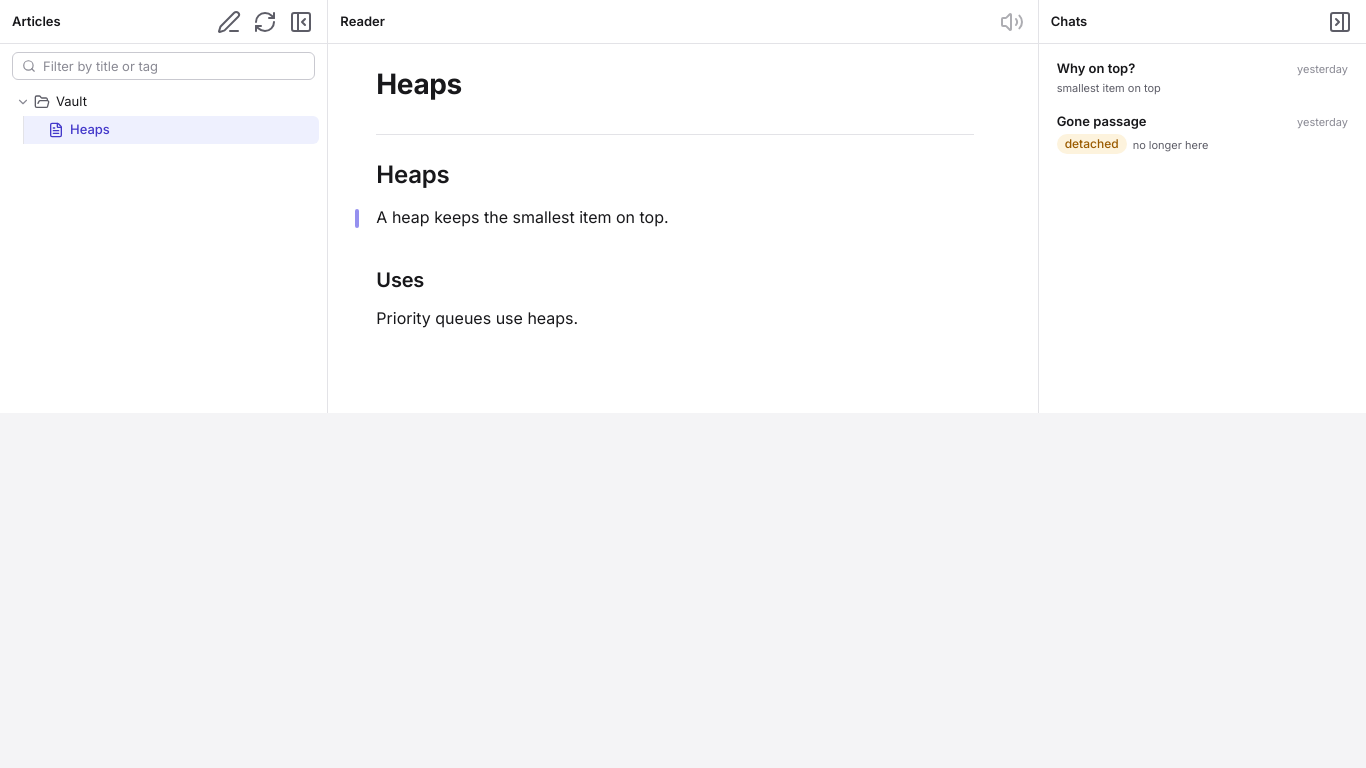
Test: chats on passages › lists threads with title and snippet, renames, resets, and shows detached ones
Expected: the element "Heaps" is shown, [328,44,1038,412]
Expected: the text "detached" is shown, [1057,134,1127,154]
Click the text "Gone passage" at coordinates (1102, 121), box [1057,113,1146,129]
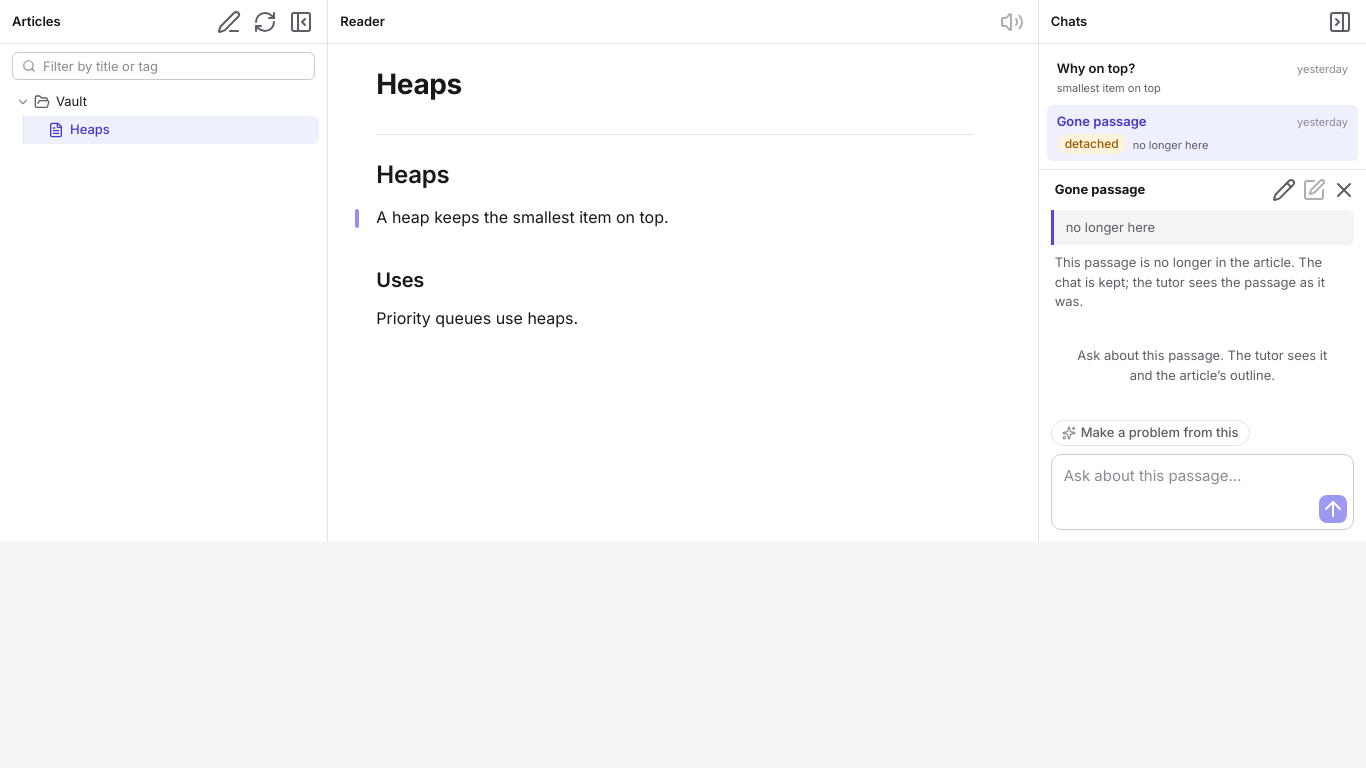
Expected: the text with test id "thread-detached" is shown, [1055,253,1350,312]
Click the button with test id "passage-marker" at coordinates (357, 218), box [350,207,364,230]
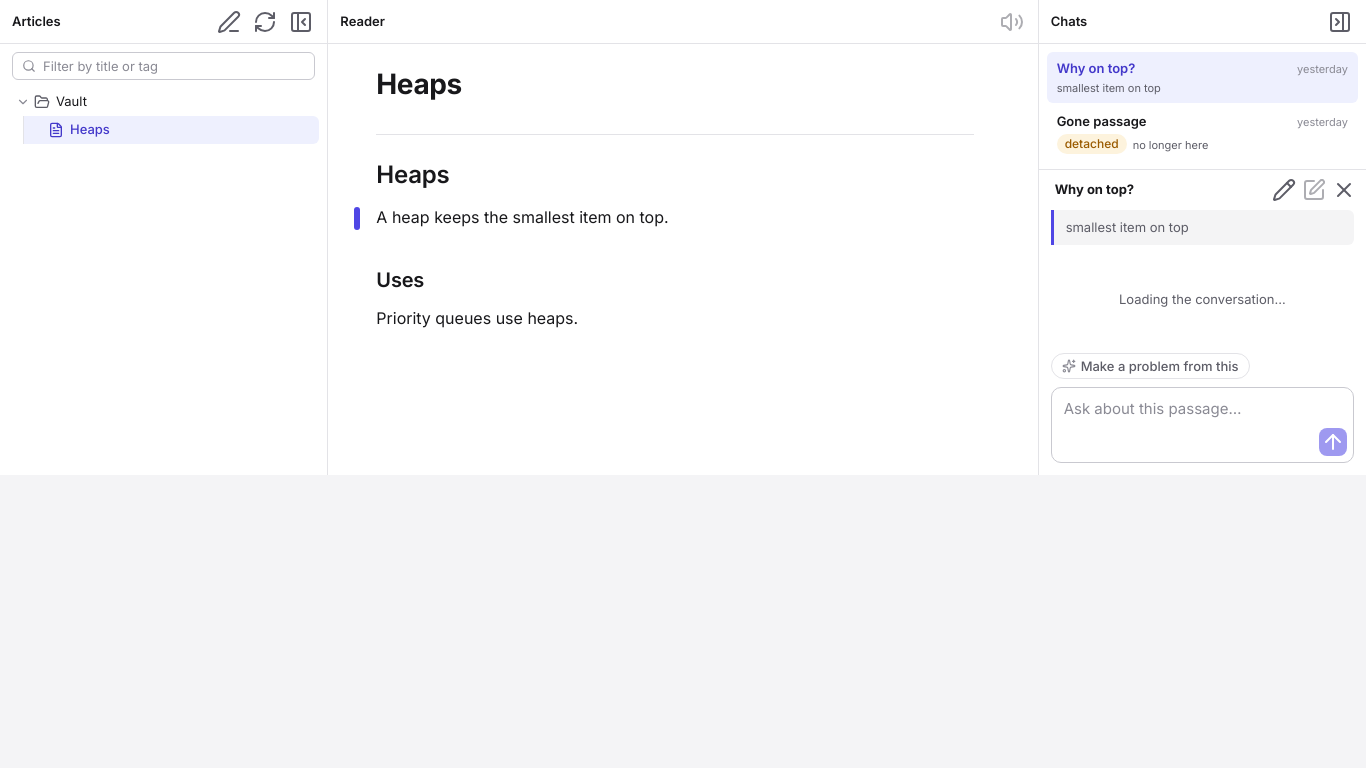
Expected: the text with test id "thread-detached" is gone
Click the button named "Rename" at coordinates (1284, 190), box [1270,176,1298,204]
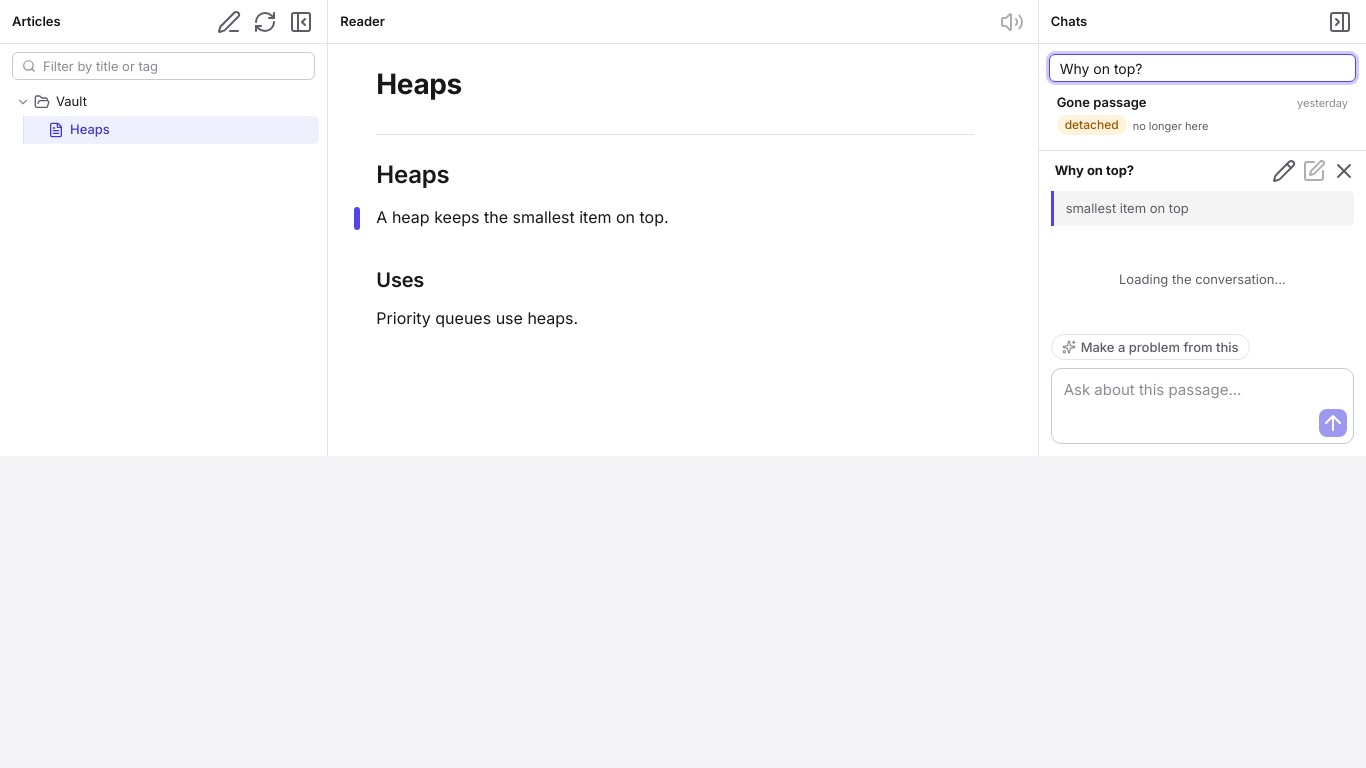
Replace the text in the field named "Chat title" with "Heap order" at coordinates (1202, 68), box [1049,54,1356,82]
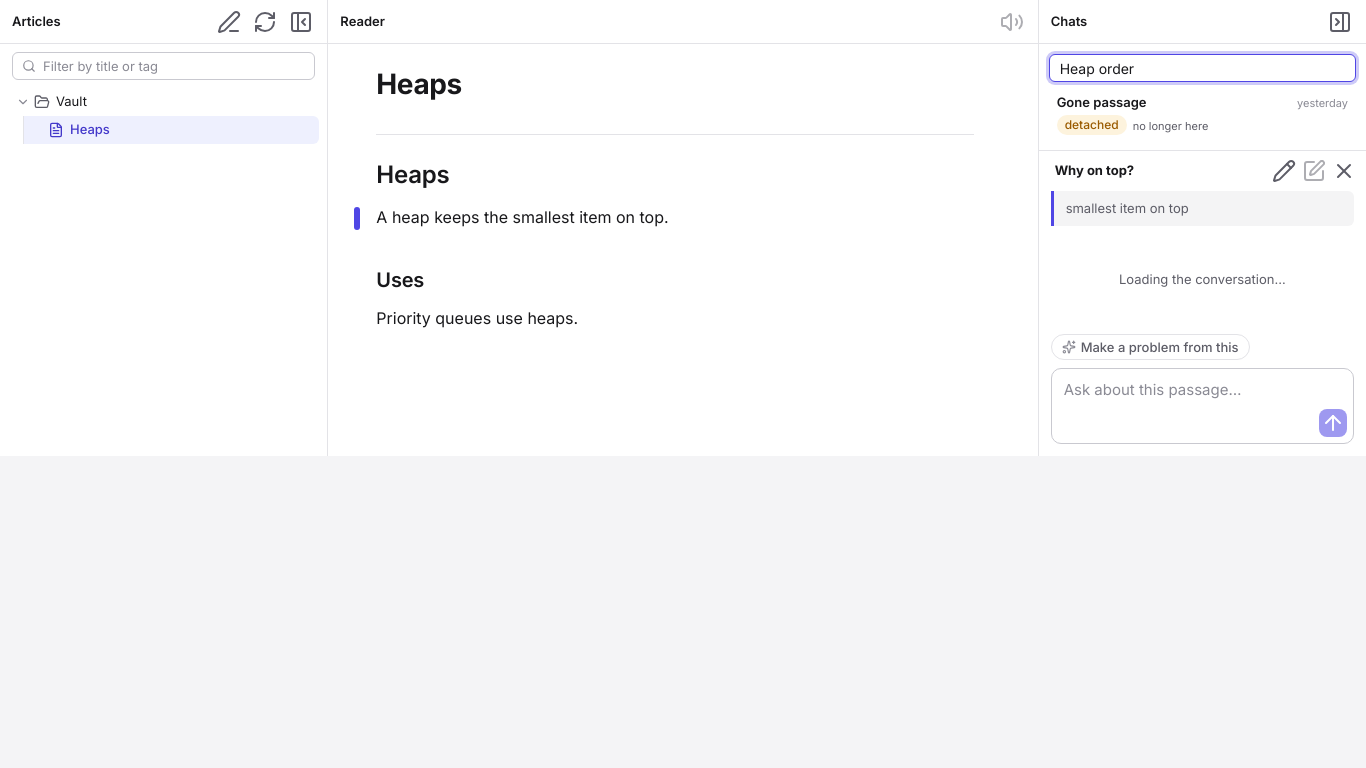
Submit the 1st form named "Chat title", box [1047,52,1358,84]
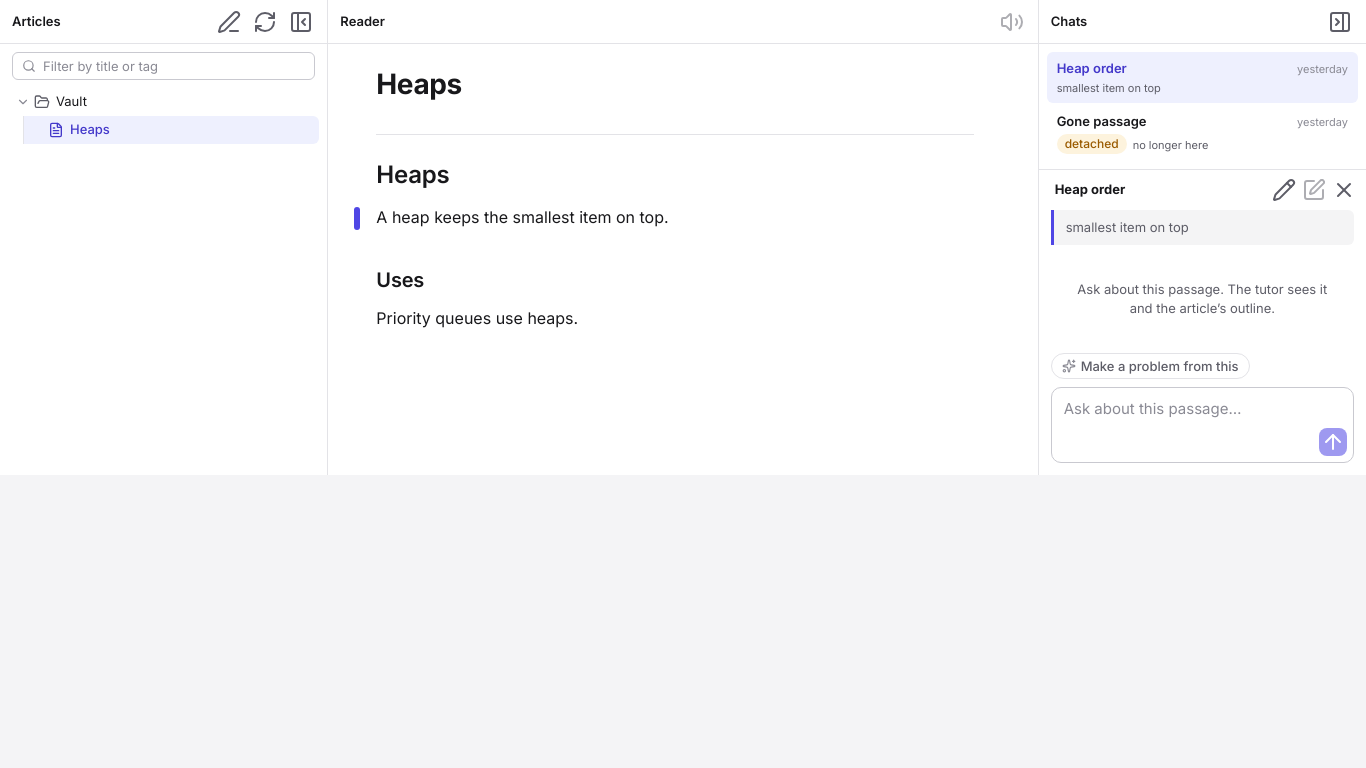
Expected: the 1st text "Heap order" is shown, [1057,60,1127,76]
